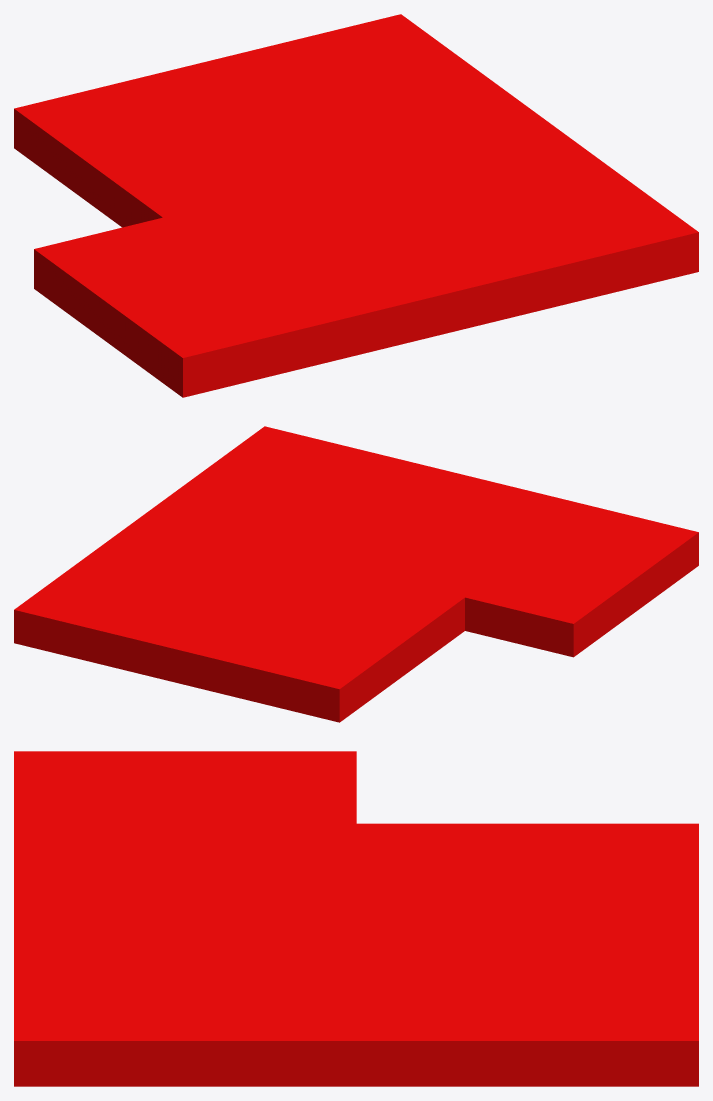
Rendered from steppingstoneplatform.dae.
The picture shows the model from 3 angles, top to bottom: view 1: azimuth 30°, elevation 25°; view 2: azimuth 150°, elevation 25°; view 3: azimuth 270°, elevation 25°; orthographic projection. The views are drawn at different scales.
Parts seen in each view (by area): view 1: node; view 2: node; view 3: node.
Part boxes in pixels (<box>): node: <box>14,14,698,397</box>; node: <box>14,426,698,722</box>; node: <box>14,751,698,1086</box>.
Bounding box in the file's own units: 0.68 × 0.68 × 0.05.
